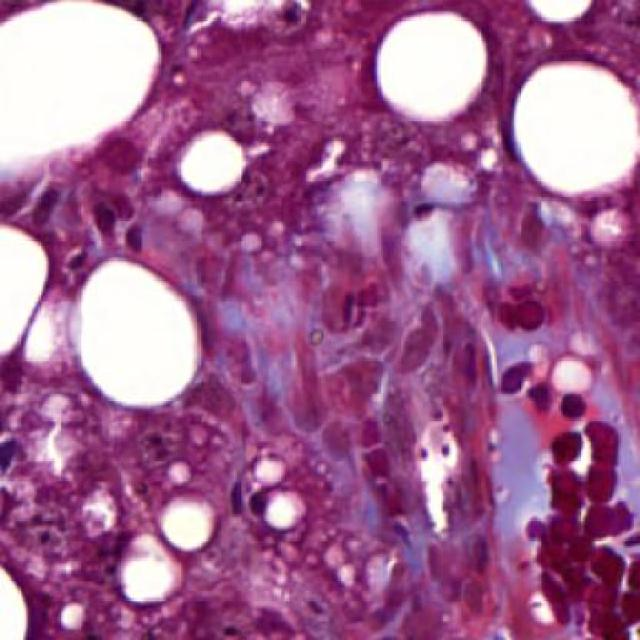steatosis: (77, 264, 201, 414), (512, 68, 640, 189), (377, 6, 490, 129)
